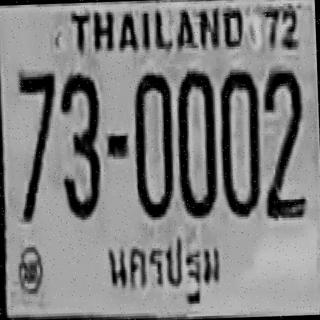N00: (217, 66, 262, 215), (132, 70, 175, 218), (174, 68, 217, 216)
N02: (260, 66, 306, 220)
N03: (57, 69, 102, 218)
N07: (17, 70, 58, 220)
P28: (100, 226, 231, 319)
